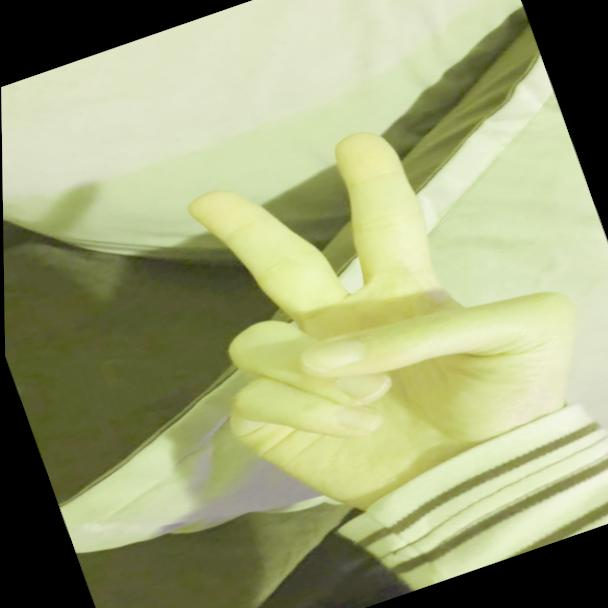two: (137, 77, 608, 563)
